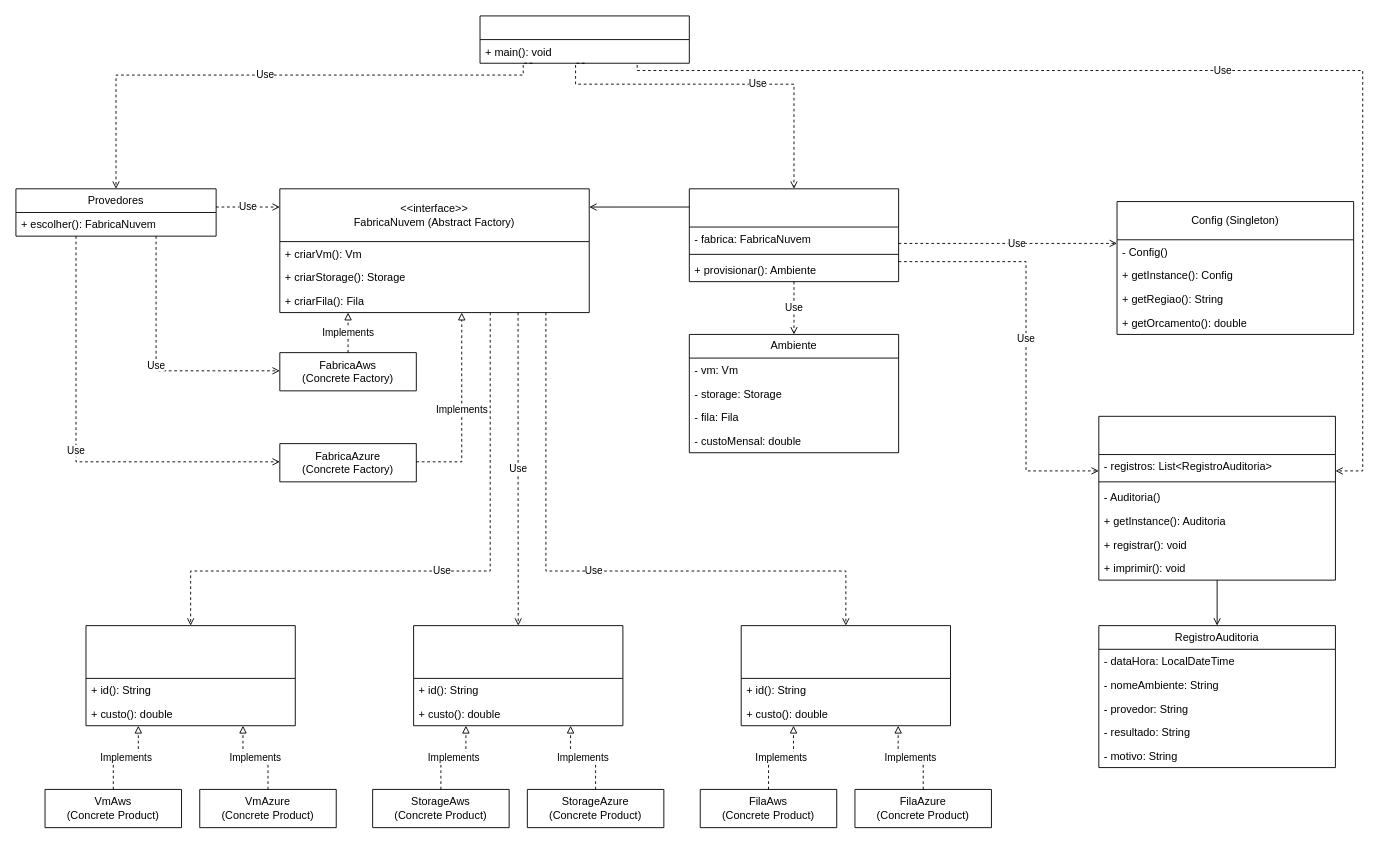
The diagram is 1386 pixels wide and 844 high, and some of its shapes have lost their labels. Each missing label, with the box of its shape:
<<interface>> Fila (Abstract Product): (740, 625, 950, 726)
<<interface>> Storage (Abstract Product): (413, 625, 623, 726)
<<interface>> Vm (Abstract Product): (85, 625, 295, 726)
Auditoria (Singleton): (1098, 415, 1335, 580)
Main (Client): (479, 15, 689, 63)
Provisionador (Client): (688, 188, 899, 282)
